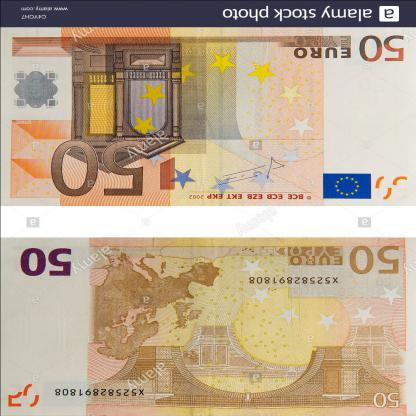euro_banknote: (1, 237, 416, 415), (2, 30, 416, 205)
